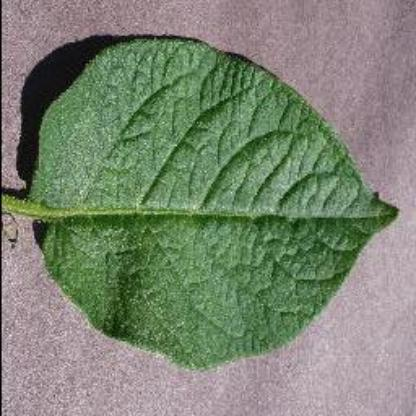Healthy-plant: (5, 34, 408, 370)
